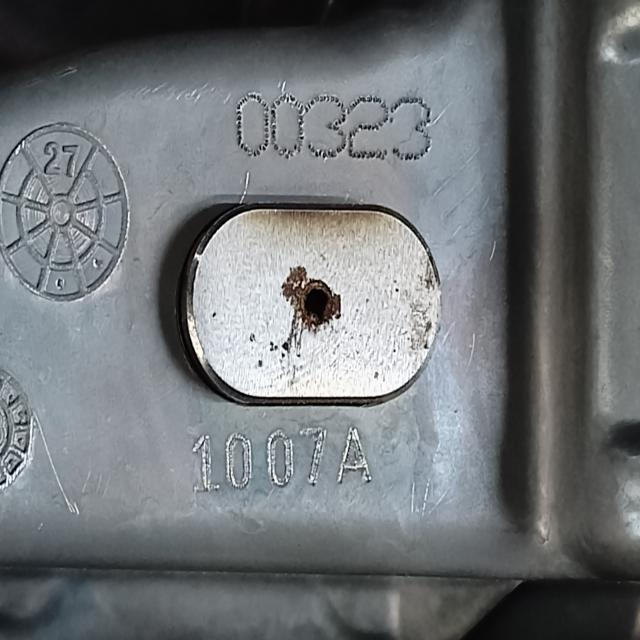DotPeeningText: (232, 84, 434, 168)
MachinePeeningText: (186, 421, 378, 496)
